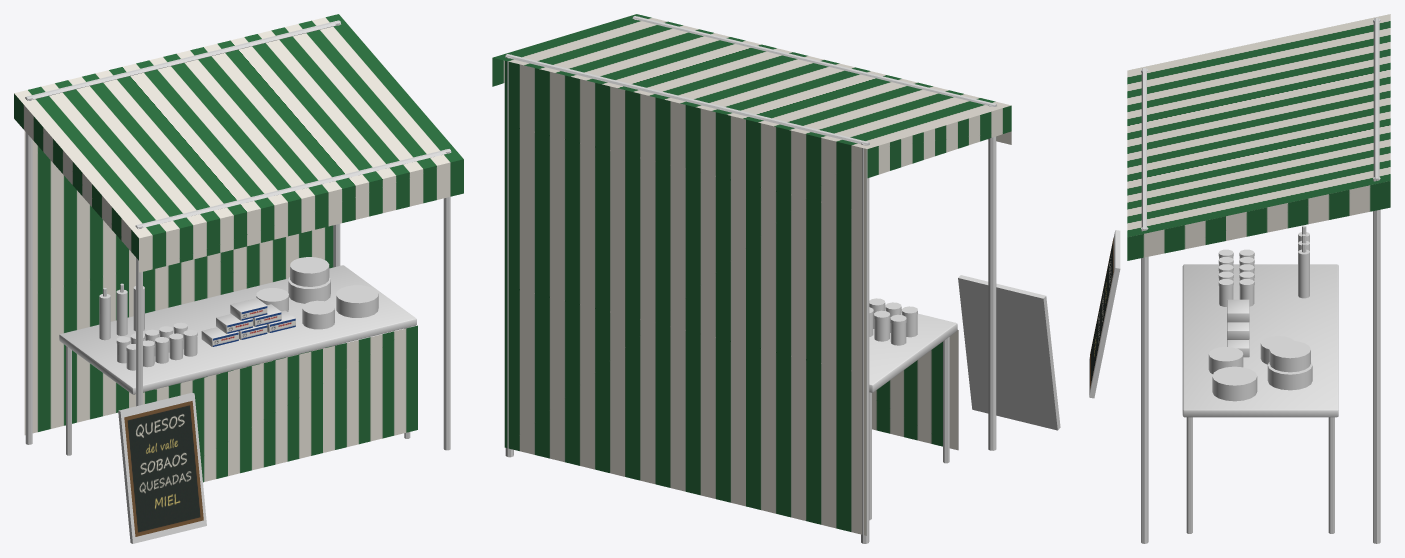
Rendered from CITY_Market_Stall_Quesos.fbx.
3 views of the same model, side by side, from view 1: azimuth 30°, elevation 25°; view 2: azimuth 150°, elevation 25°; view 3: azimuth 270°, elevation 25° (orthographic). The views are drawn at different scales.
Parts seen in each view (by area): view 1: CITY_Market_Stall_Quesos; view 2: CITY_Market_Stall_Quesos; view 3: CITY_Market_Stall_Quesos.
Boxes of the visible parts, <box> form: CITY_Market_Stall_Quesos: <box>14,14,463,543</box>; CITY_Market_Stall_Quesos: <box>492,14,1060,543</box>; CITY_Market_Stall_Quesos: <box>1089,14,1390,543</box>.
Bounding box in the file's own units: 2.45 × 2.33 × 1.74.
